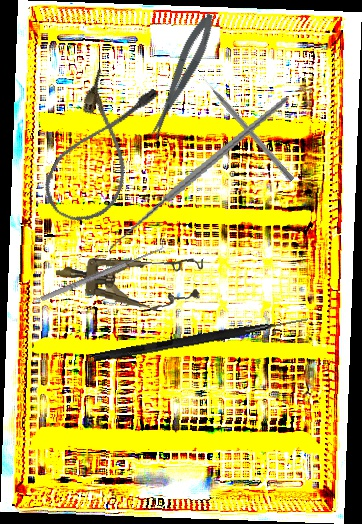Cannula: (35, 64, 164, 234)
Hook Surgical: (87, 95, 311, 263), (92, 312, 310, 365), (37, 239, 166, 304)
Micro Scissor: (141, 10, 221, 142)
Pusher: (198, 71, 296, 183)
Speculum: (53, 244, 204, 314)
